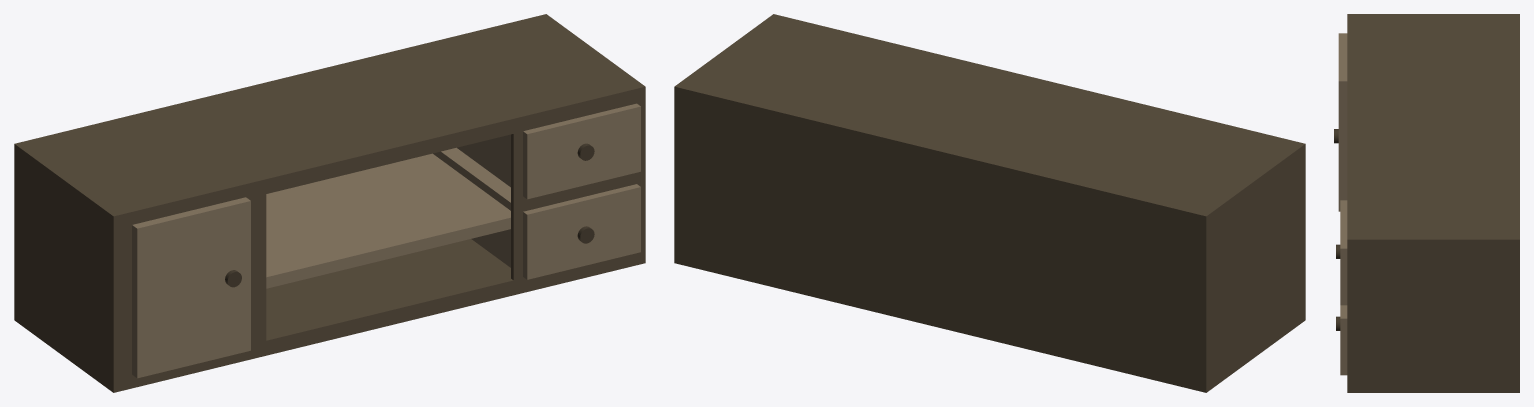
The model's file is colored tv furniture.fbx.
3 views of the same model, side by side, from view 1: azimuth 30°, elevation 25°; view 2: azimuth 150°, elevation 25°; view 3: azimuth 270°, elevation 25° (orthographic). The views are drawn at different scales.
Parts seen in each view (by area): view 1: polySurface4, polySurface3, polySurface5, polySurface1, polySurface2; view 2: polySurface4; view 3: polySurface4, polySurface5, polySurface2, polySurface1.
Boxes of the visible parts, left/top/right/bottom form: polySurface4: left=14, top=14, right=645, bottom=392; polySurface3: left=266, top=153, right=510, bottom=288; polySurface5: left=132, top=197, right=250, bottom=378; polySurface1: left=433, top=147, right=640, bottom=279; polySurface2: left=457, top=103, right=640, bottom=199; polySurface4: left=674, top=14, right=1305, bottom=392; polySurface4: left=1347, top=14, right=1519, bottom=392; polySurface5: left=1338, top=33, right=1347, bottom=211; polySurface2: left=1340, top=200, right=1347, bottom=305; polySurface1: left=1340, top=305, right=1347, bottom=375.
Size of the model in its own units: 2.23 by 0.7077 by 0.7769.
